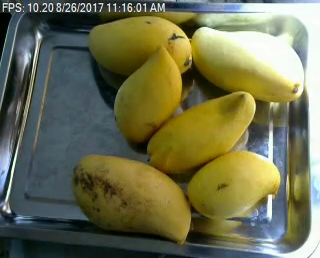Mango: (72, 154, 191, 241), (147, 91, 255, 176), (191, 26, 303, 101), (114, 46, 182, 144), (186, 150, 280, 219), (87, 16, 192, 77)
